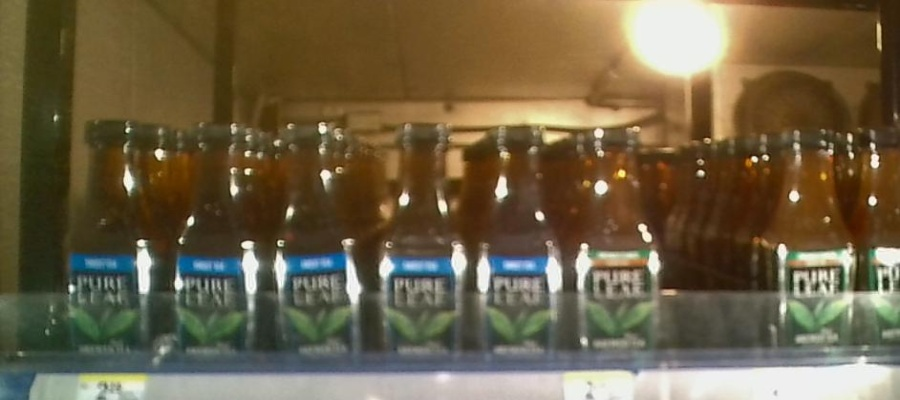bottle: (372, 111, 473, 361), (267, 116, 370, 361), (570, 114, 671, 361), (765, 115, 860, 363), (166, 119, 264, 358), (476, 114, 568, 364), (65, 117, 160, 355), (861, 109, 900, 358)
